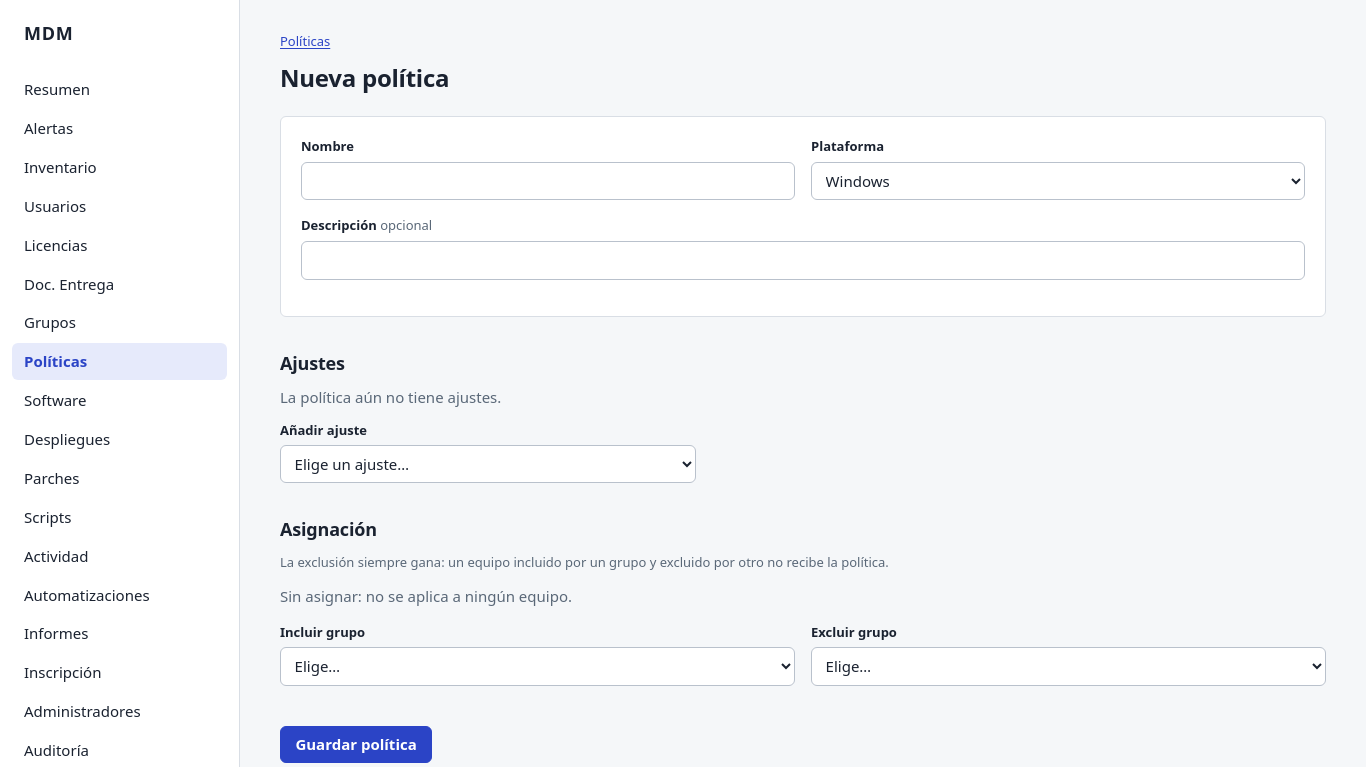
Editor de políticas › un ajuste solo auditable no permite elegir «Aplicar» y lo explica
Select "Linux" in the dropdown labelled "Plataforma" at (1058, 181), box [811,162,1305,200]
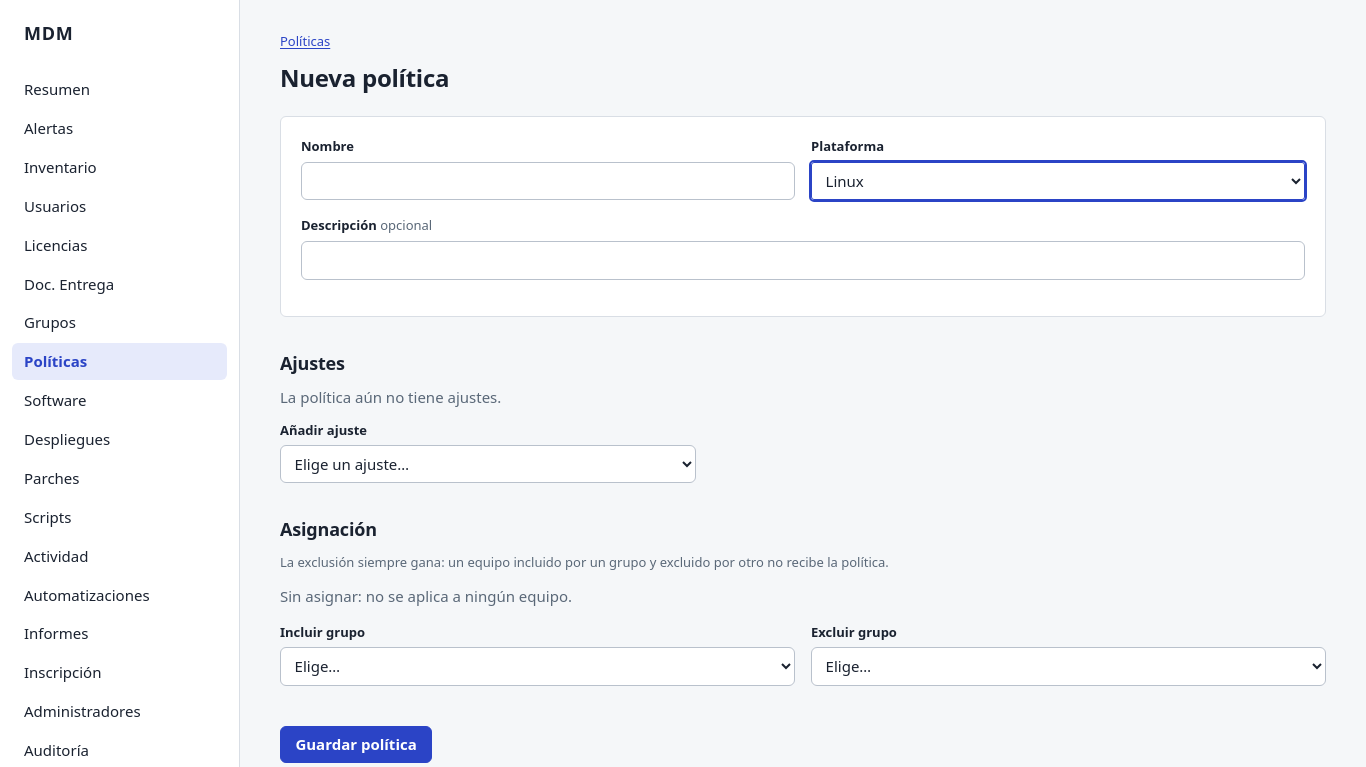
Select "Cifrado de disco" in the dropdown labelled "Añadir ajuste" at (488, 464), box [280,445,696,483]
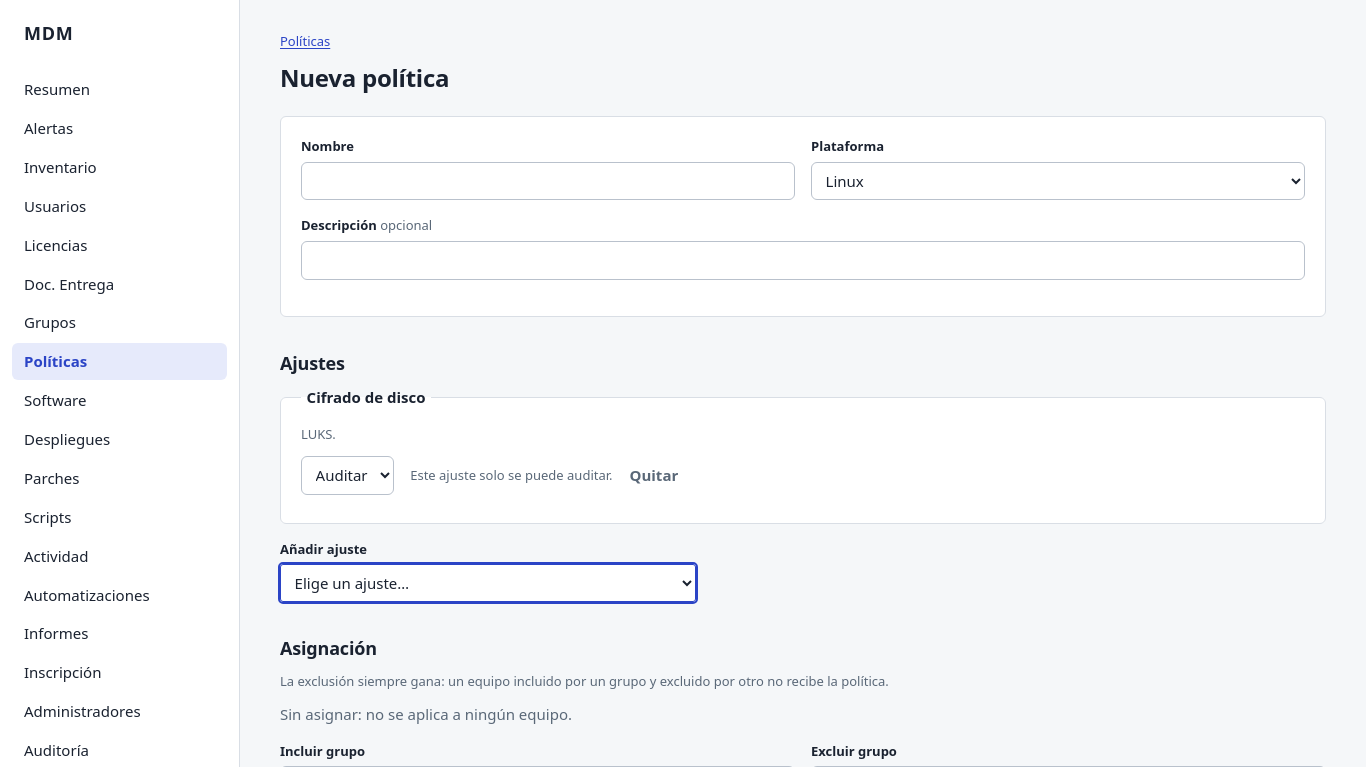
Check: the text "Este ajuste solo se puede auditar." is shown, box [410,466,612,485]
